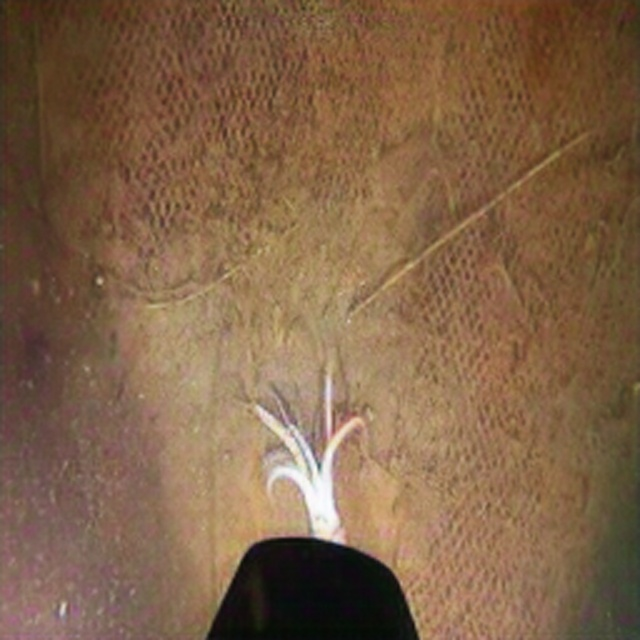mine: (404, 0, 640, 640), (48, 2, 416, 266)
